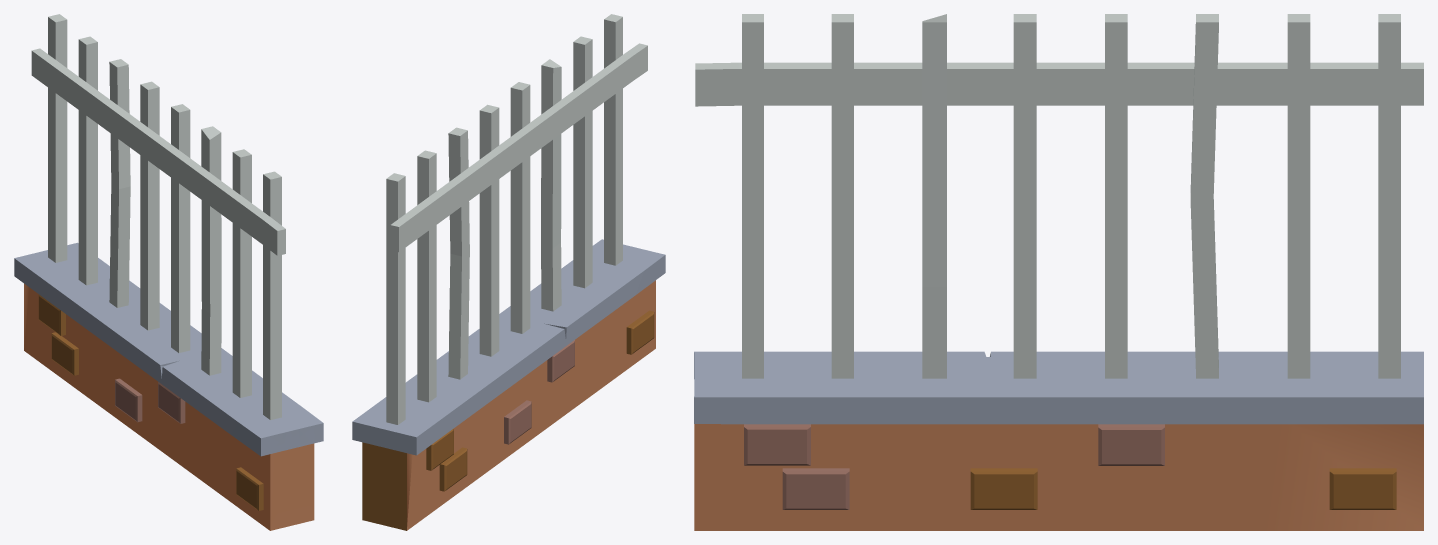
File: fence middle 1.fbx
3 renders of one model, left to right at view 1: azimuth 30°, elevation 25°; view 2: azimuth 150°, elevation 25°; view 3: azimuth 270°, elevation 25°, orthographic. The views are drawn at different scales.
Visible parts, largest first — view 1: Fence_middle; view 2: Fence_middle; view 3: Fence_middle.
Part boxes in pixels (<box>): Fence_middle: <box>14,14,323,530</box>; Fence_middle: <box>352,14,665,530</box>; Fence_middle: <box>694,14,1423,530</box>.
Bounding box in the file's own units: 53.99 × 273 × 363.
